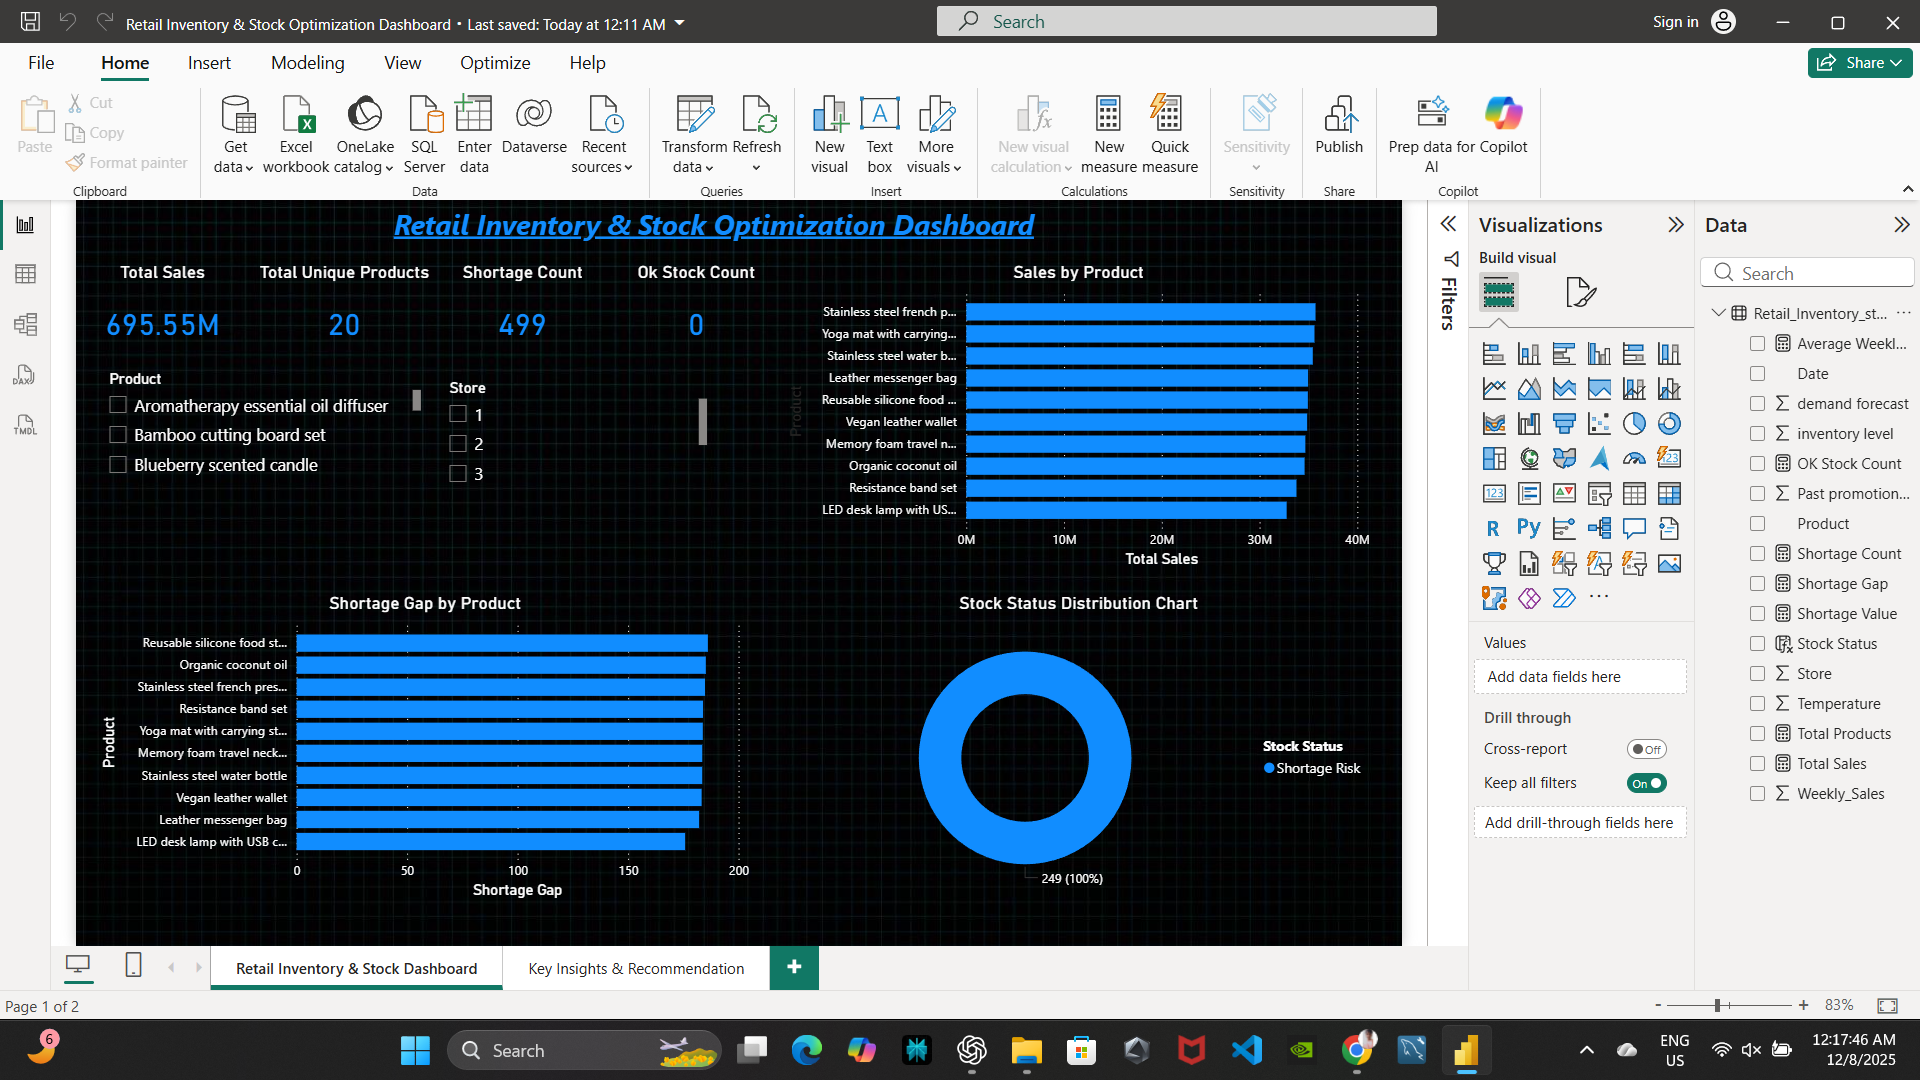

This screenshot's page, from the dashboard's own definition file:
{"tool":"powerbi","page":{"name":"Retail Inventory & Stock Dashboard","canvas":[1280,720],"ordinal":0},"visuals":[{"type":"textbox","box":[301.9,0,676.5,46.7],"z":0},{"type":"card","title":"Total Sales","fields":{"Values":["Retail_Inventory_stock_optimization.Total Sales"]},"box":[0,59,167.4,100.2],"z":1},{"type":"card","title":"Total Unique Products","fields":{"Values":["Retail_Inventory_stock_optimization.Total Products"]},"box":[171.5,59,175.6,100.2],"z":2},{"type":"card","title":"Shortage Count","fields":{"Values":["Retail_Inventory_stock_optimization.Shortage Count"]},"box":[347.2,59,167.4,100.2],"z":3},{"type":"card","title":"Ok Stock Count","fields":{"Values":["Retail_Inventory_stock_optimization.OK Stock Count"]},"box":[514.6,59,167.4,100.2],"z":4},{"type":"barChart","title":"Sales by Product","fields":{"Category":["Retail_Inventory_stock_optimization.Product"],"Y":["Retail_Inventory_stock_optimization.Total Sales"]},"box":[682,59,572.2,300.5],"z":5},{"type":"donutChart","title":"Stock Status Distribution Chart","fields":{"Y":["Retail_Inventory_stock_optimization.Shortage Count"],"Category":["Retail_Inventory_stock_optimization.Stock Status"]},"box":[682,378.7,572.2,300.5],"z":6},{"type":"barChart","fields":{"Category":["Retail_Inventory_stock_optimization.Product"],"Y":["Retail_Inventory_stock_optimization.Shortage Gap"]},"box":[19.2,378.7,635.3,300.5],"z":7},{"type":"slicer","fields":{"Values":["Retail_Inventory_stock_optimization.Product"]},"box":[19.2,159.2,318.4,118],"z":8},{"type":"slicer","fields":{"Values":["Retail_Inventory_stock_optimization.Store"]},"box":[347.2,167.4,266.2,109.8],"z":10}]}

Visuals, with their boxes on the page's 1280x720 design canvas (x1, y1, x2, y2). These are canvas units, not pixel positions in the 1920x1080 screenshot, which may show the page scaled, cropped or inside an application window:
textbox: box(302, 0, 978, 47)
"Total Sales" card: box(0, 59, 167, 159)
"Total Unique Products" card: box(172, 59, 347, 159)
"Shortage Count" card: box(347, 59, 515, 159)
"Ok Stock Count" card: box(515, 59, 682, 159)
"Sales by Product" barChart: box(682, 59, 1254, 360)
"Stock Status Distribution Chart" donutChart: box(682, 379, 1254, 679)
barChart - Retail_Inventory_stock_optimization.Product x Retail_Inventory_stock_optimization.Shortage Gap: box(19, 379, 654, 679)
slicer - Retail_Inventory_stock_optimization.Product: box(19, 159, 338, 277)
slicer - Retail_Inventory_stock_optimization.Store: box(347, 167, 613, 277)
